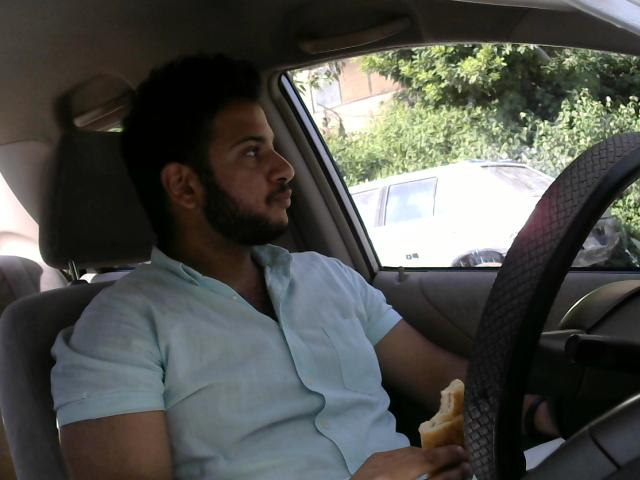Eating: (410, 378, 489, 468)
